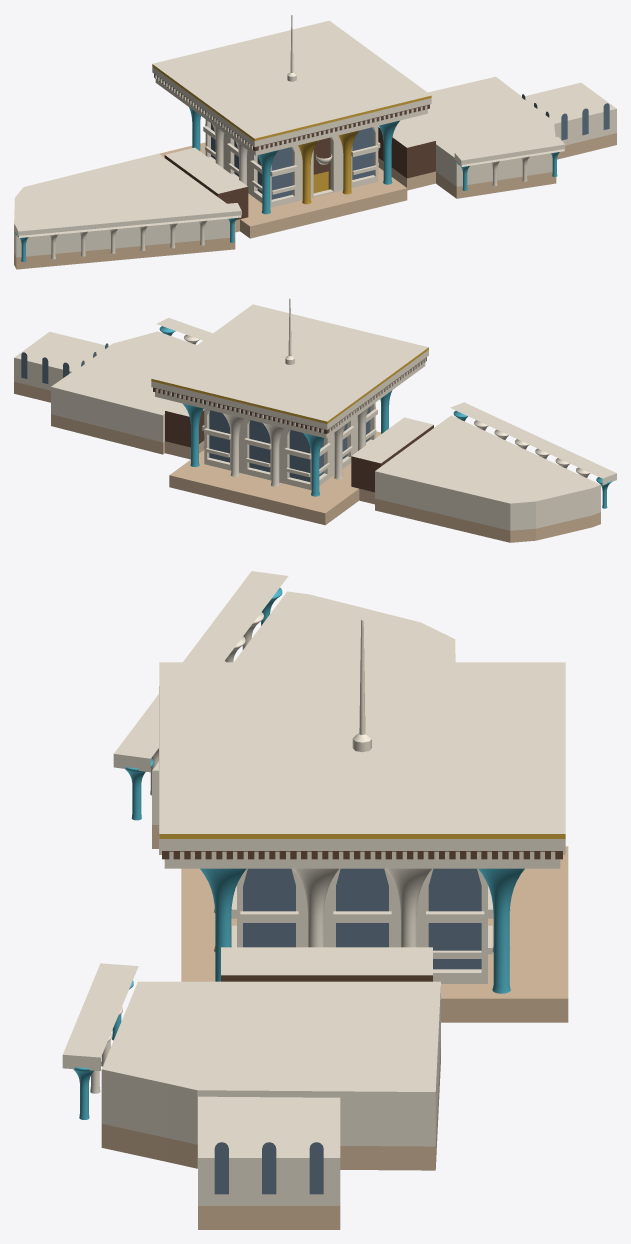
File: muscat-al-alam-palace.detail.glb
The picture shows the model from 3 angles, top to bottom: view 1: azimuth 30°, elevation 25°; view 2: azimuth 150°, elevation 25°; view 3: azimuth 270°, elevation 25°; orthographic projection. The views are drawn at different scales.
Visible parts, largest first — view 1: Al Alam Palace; view 2: Al Alam Palace; view 3: Al Alam Palace.
Boxes of the visible parts, x1=… form: Al Alam Palace: x1=14, y1=15, x2=616, y2=269; Al Alam Palace: x1=14, y1=298, x2=616, y2=542; Al Alam Palace: x1=62, y1=571, x2=568, y2=1229.
Size of the model in its own units: 152 by 42.05 by 57.22.
